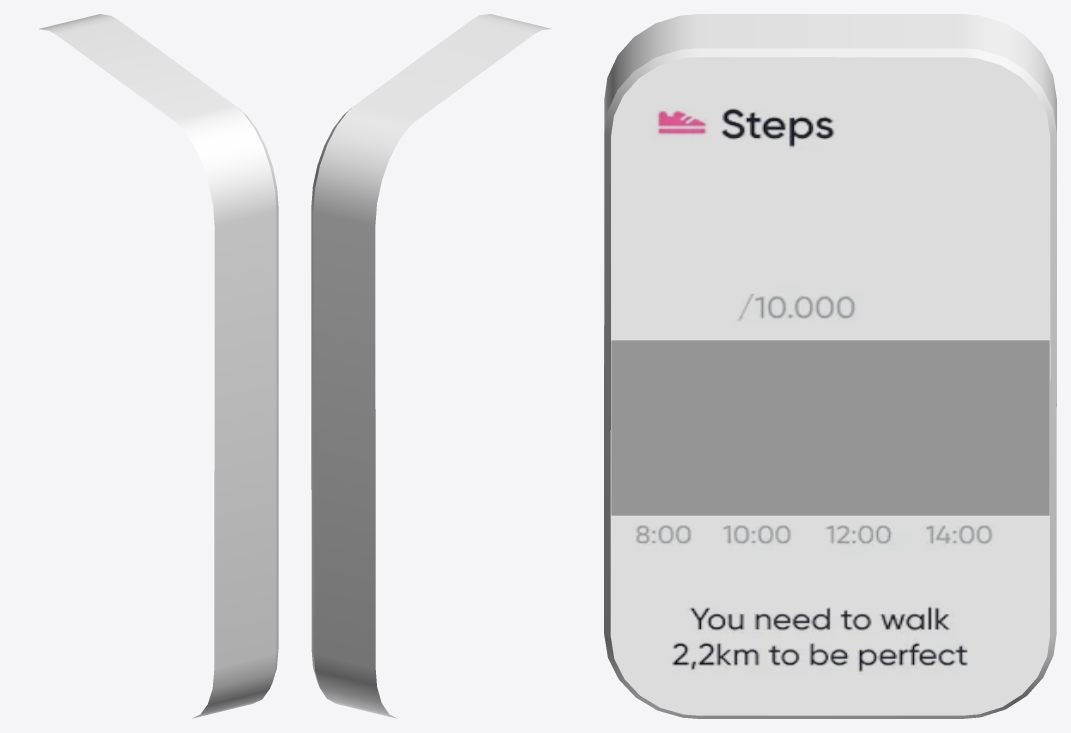
Rendered from steps-transformed.glb.
3 views of the same model, side by side, from view 1: azimuth 30°, elevation 25°; view 2: azimuth 150°, elevation 25°; view 3: azimuth 270°, elevation 25° (orthographic). The views are drawn at different scales.
Visible parts, largest first — view 1: stepsBase; view 2: stepsBase; view 3: stepsScreen, stepsCurve, stepsBase.
Boxes of the visible parts, box(x1,y1,x2,y2) form: stepsBase: box(39, 14, 278, 718); stepsBase: box(311, 14, 551, 718); stepsScreen: box(610, 57, 1050, 715); stepsCurve: box(611, 340, 1049, 515); stepsBase: box(604, 14, 1056, 718).
Size of the model in its own units: 4.07 by 33.13 by 20.27.
2 materials, 1 textured.
